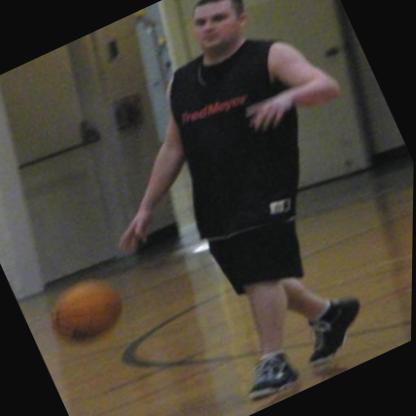basketball: (44, 271, 136, 357)
